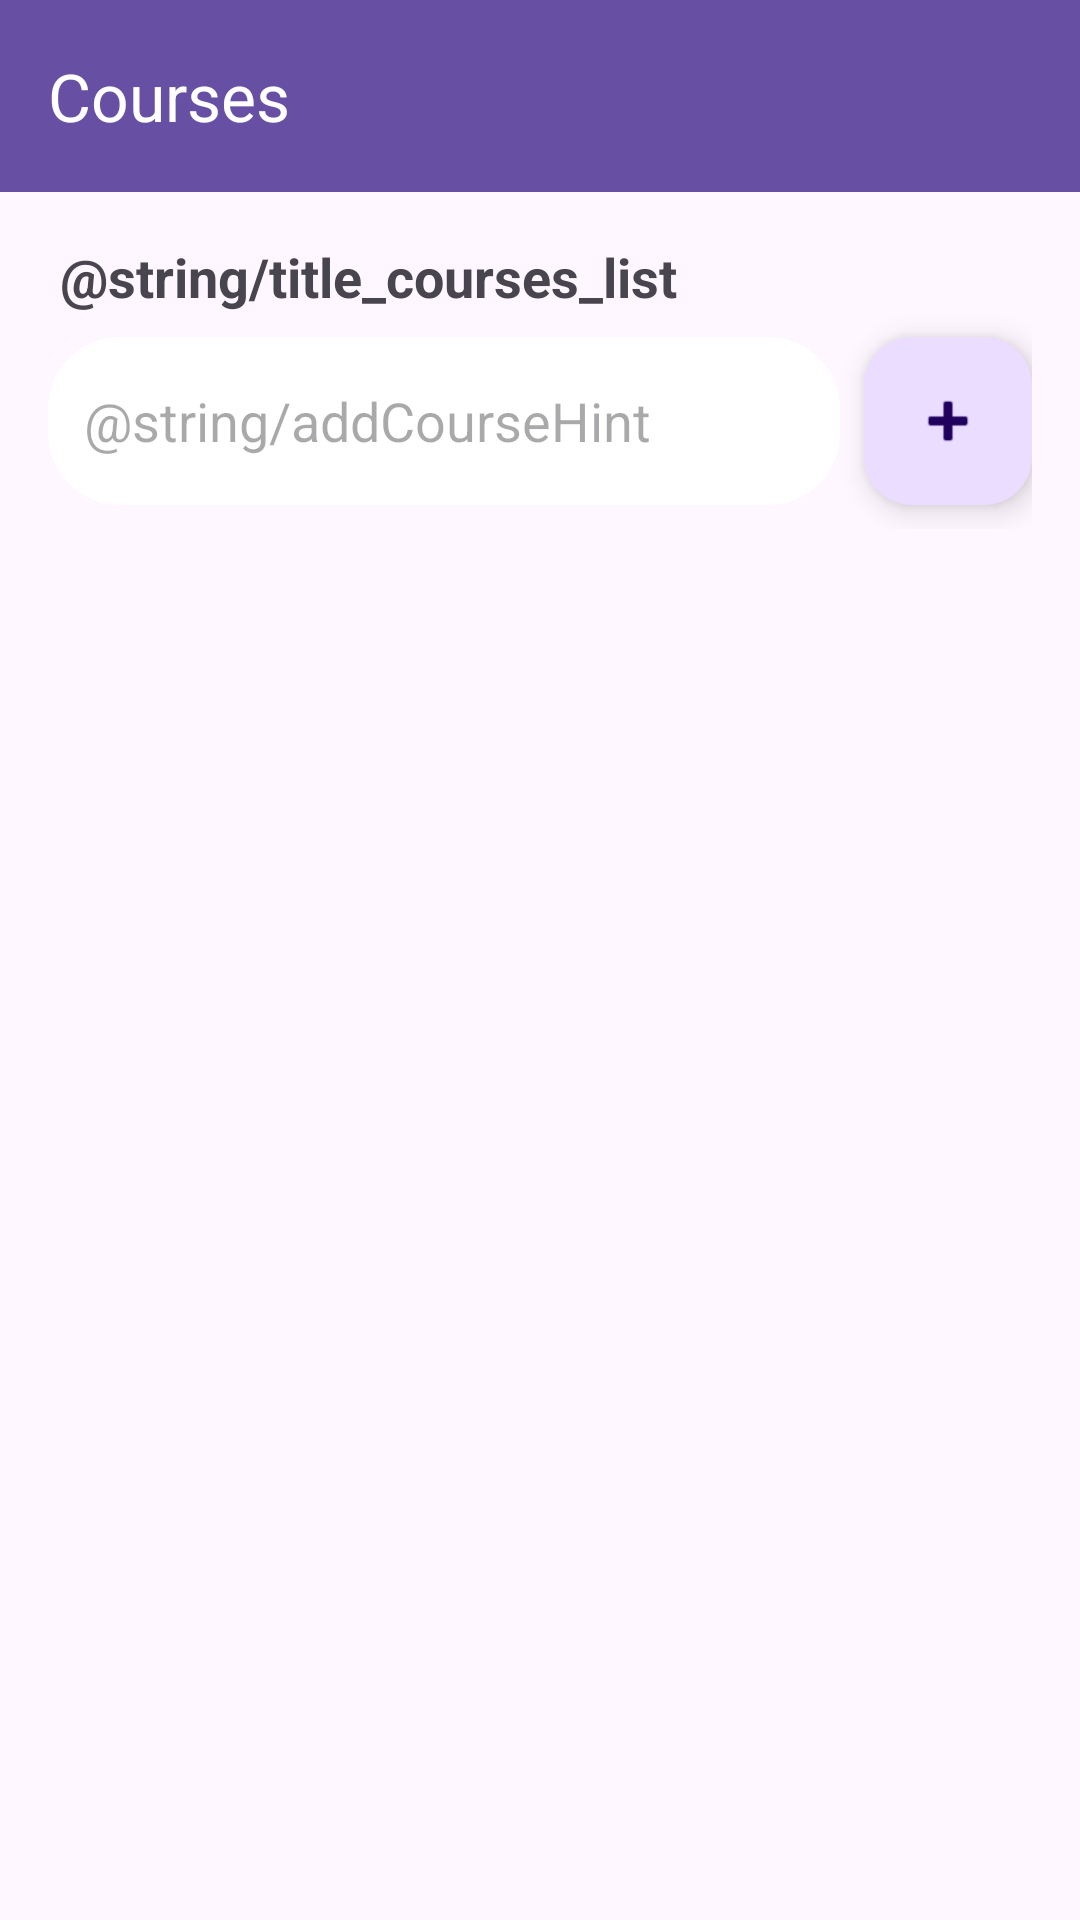

Screen size 1080 × 1920. Icon name, then its center in pixels as (x,y):
Add Item: (948,421)
